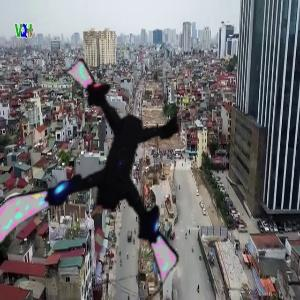drone: (7, 82, 220, 295)
